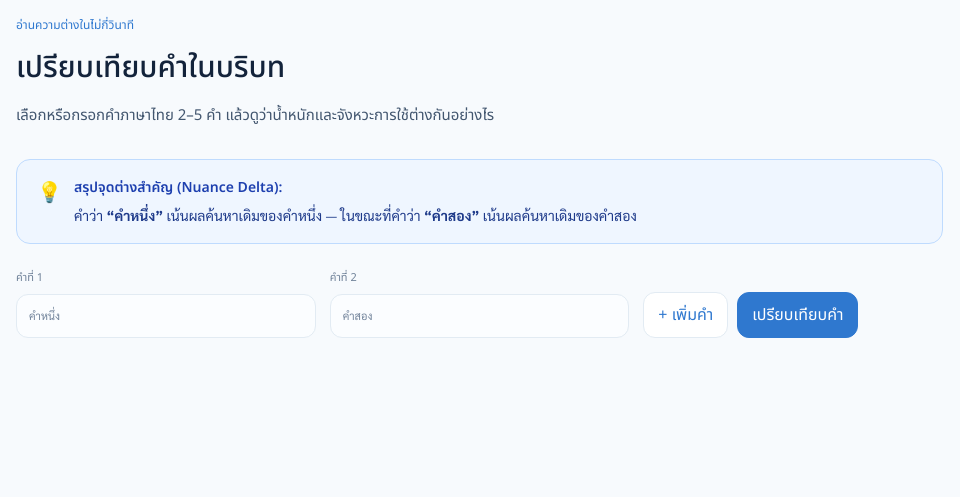
ContextComparator › does not render a stale response after the inputs change
Click the button "เปรียบเทียบคำ": (798, 315) x1=737 y1=292 x2=858 y2=338
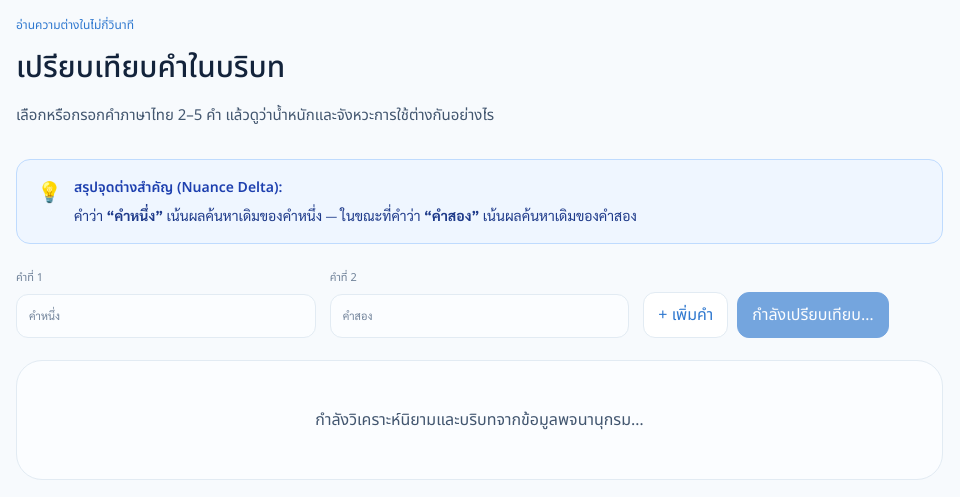
Replace the text in the field labelled "คำที่ 2" with "คำสาม": (479, 316) x1=330 y1=294 x2=629 y2=338
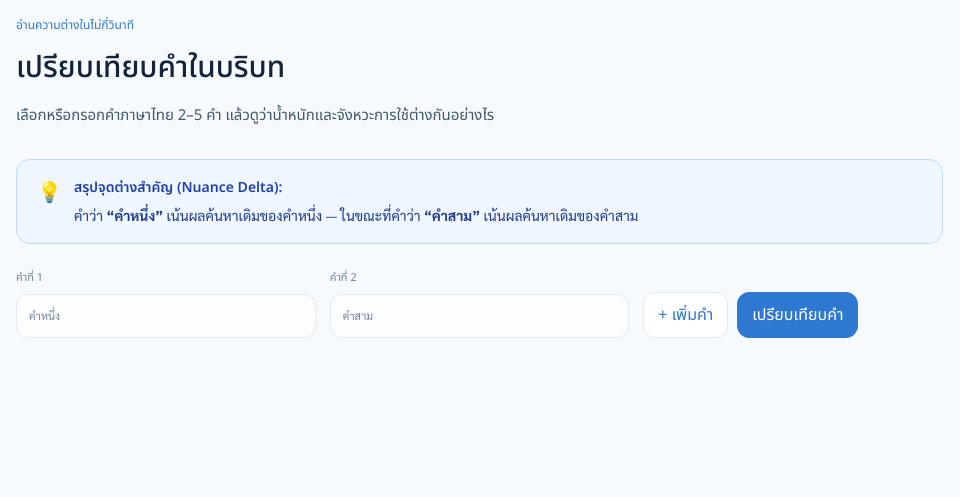
expect the button "เปรียบเทียบคำ" is enabled: met, box x1=737 y1=292 x2=858 y2=338
